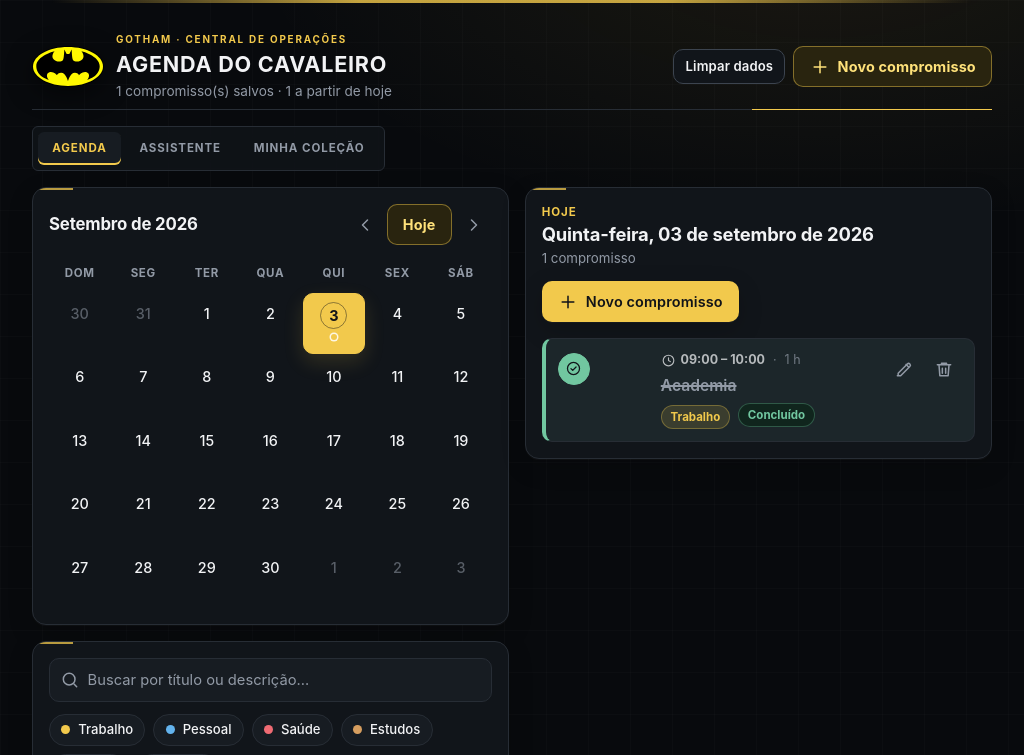
Test case: conclusão de compromissos › volta ao estado pendente ao desmarcar
Click the button named "marcar como não concluído". click: {"x": 574, "y": 369}
box: [558,353,590,385]
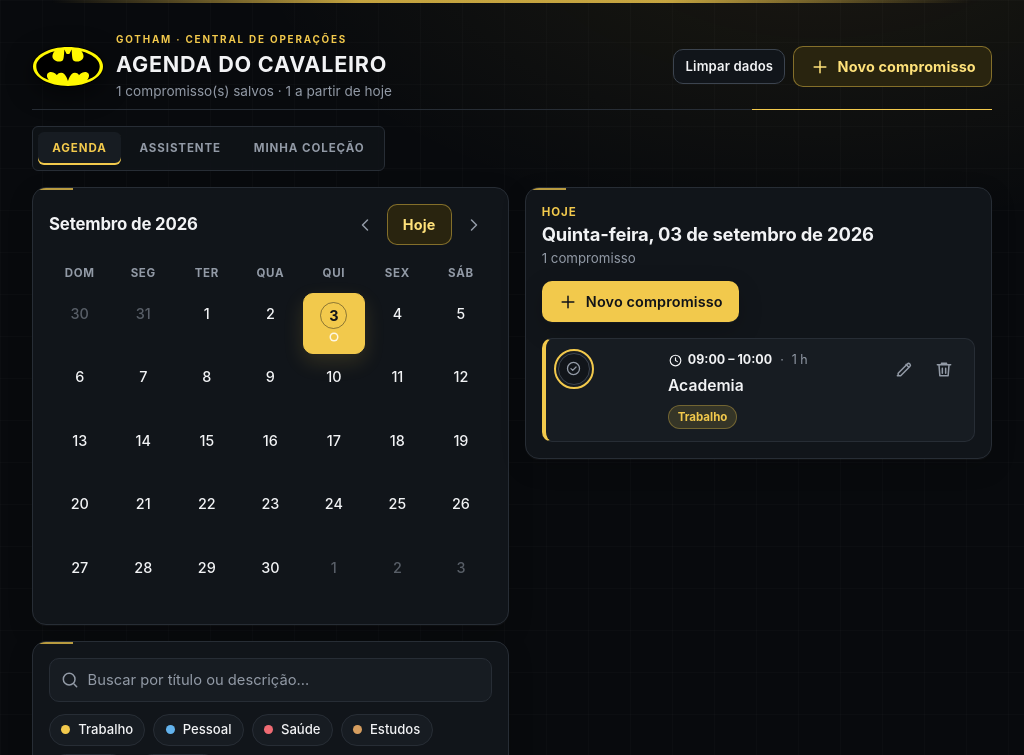
Now the text "Concluído" is gone
